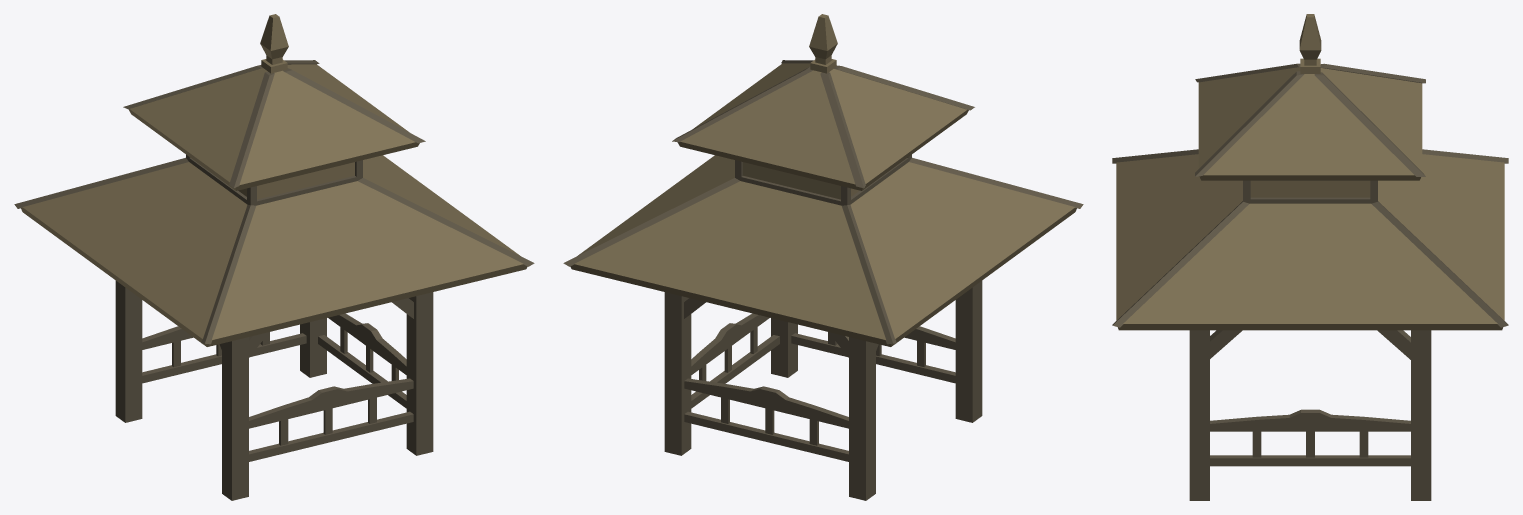
File: gradenhouse.fbx
3 renders of one model, left to right at view 1: azimuth 30°, elevation 25°; view 2: azimuth 150°, elevation 25°; view 3: azimuth 270°, elevation 25°, orthographic. The views are drawn at different scales.
Parts seen in each view (by area): view 1: gradenhouse; view 2: gradenhouse; view 3: gradenhouse.
Part boxes in pixels (x1,y1,x2,y2): gradenhouse: (14,14,534,500); gradenhouse: (563,14,1083,500); gradenhouse: (1112,14,1508,500).
Size of the model in its own units: 406 by 491 by 406.
